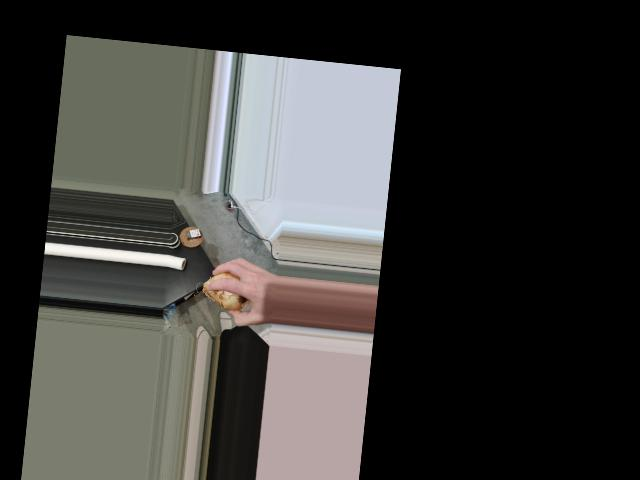onion: (202, 271, 248, 312)
